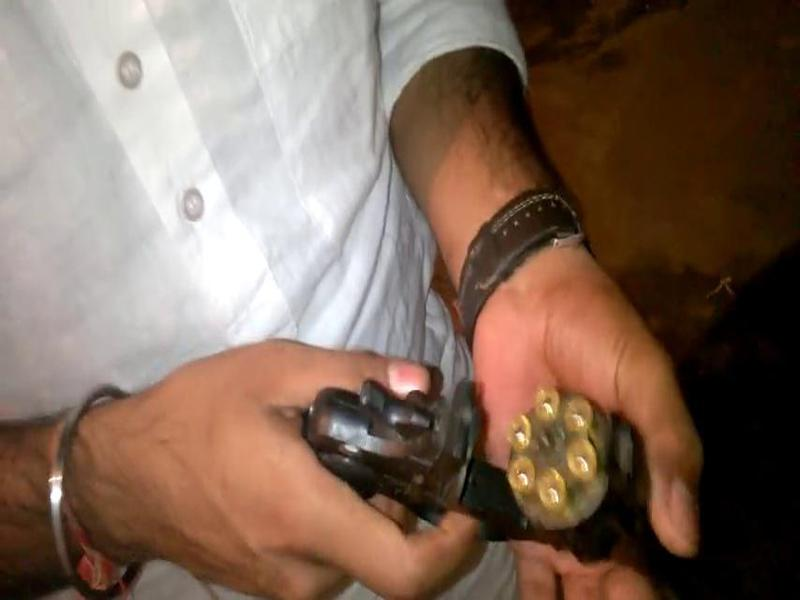Revolver: (270, 349, 758, 595)
